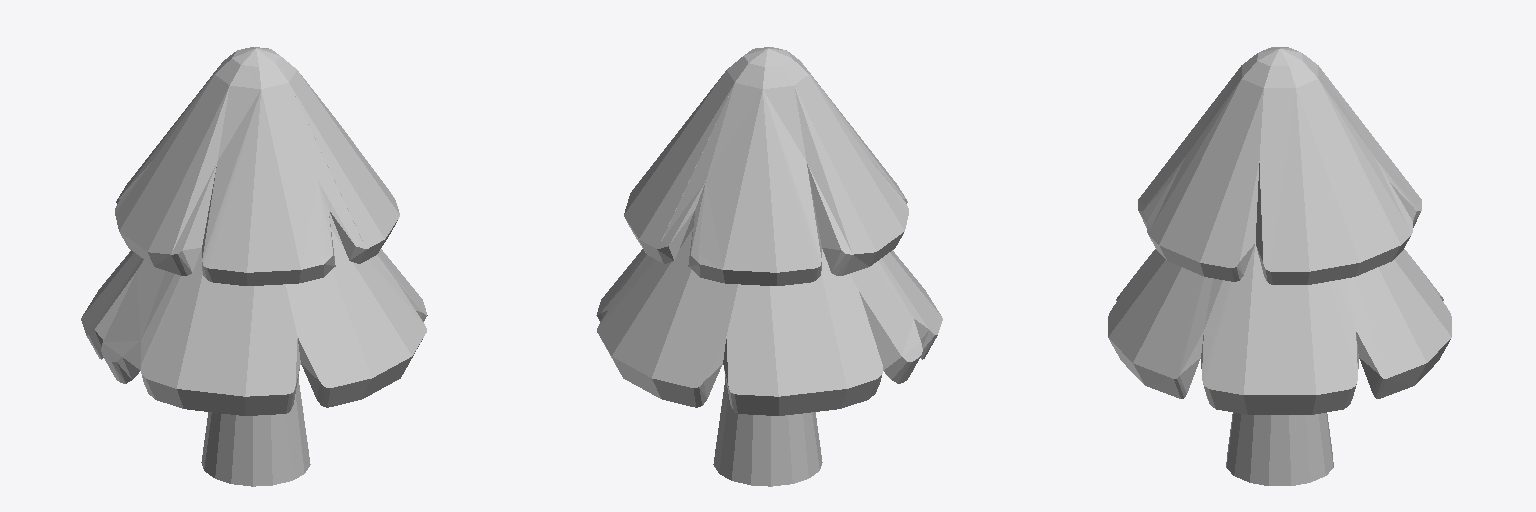
File: tree.obj
3 views of the same model, side by side, from view 1: azimuth 30°, elevation 25°; view 2: azimuth 150°, elevation 25°; view 3: azimuth 270°, elevation 25° (orthographic).
Visible parts, largest first — view 1: PineFBXASC046001; view 2: PineFBXASC046001; view 3: PineFBXASC046001.
Boxes of the visible parts, <box> form: PineFBXASC046001: <box>81,47,427,486</box>; PineFBXASC046001: <box>596,47,942,486</box>; PineFBXASC046001: <box>1108,47,1451,485</box>.
Bounding box in the file's own units: 150 × 200 × 150.